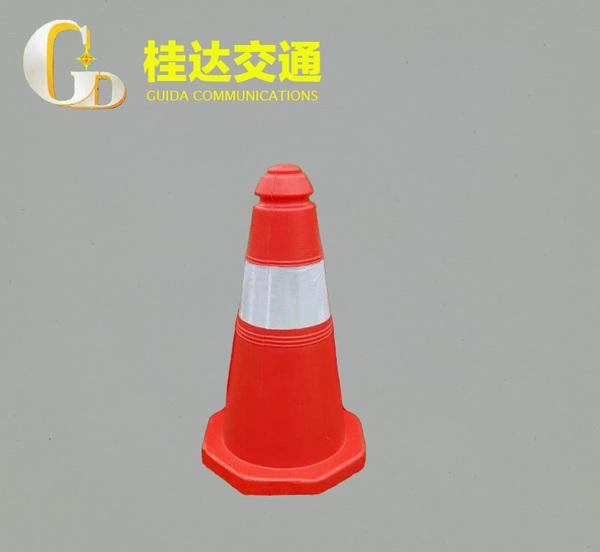sign: (192, 160, 378, 497)
